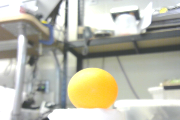PingPongBall: (69, 68, 118, 109)
